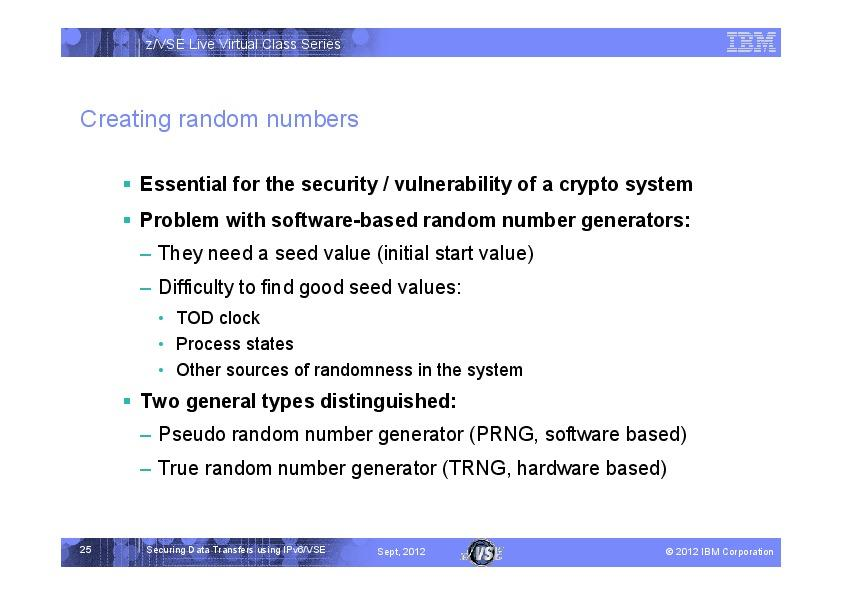paragraph: (110, 159, 721, 502)
subtitle: (77, 99, 366, 140)
title: (132, 28, 348, 60)
